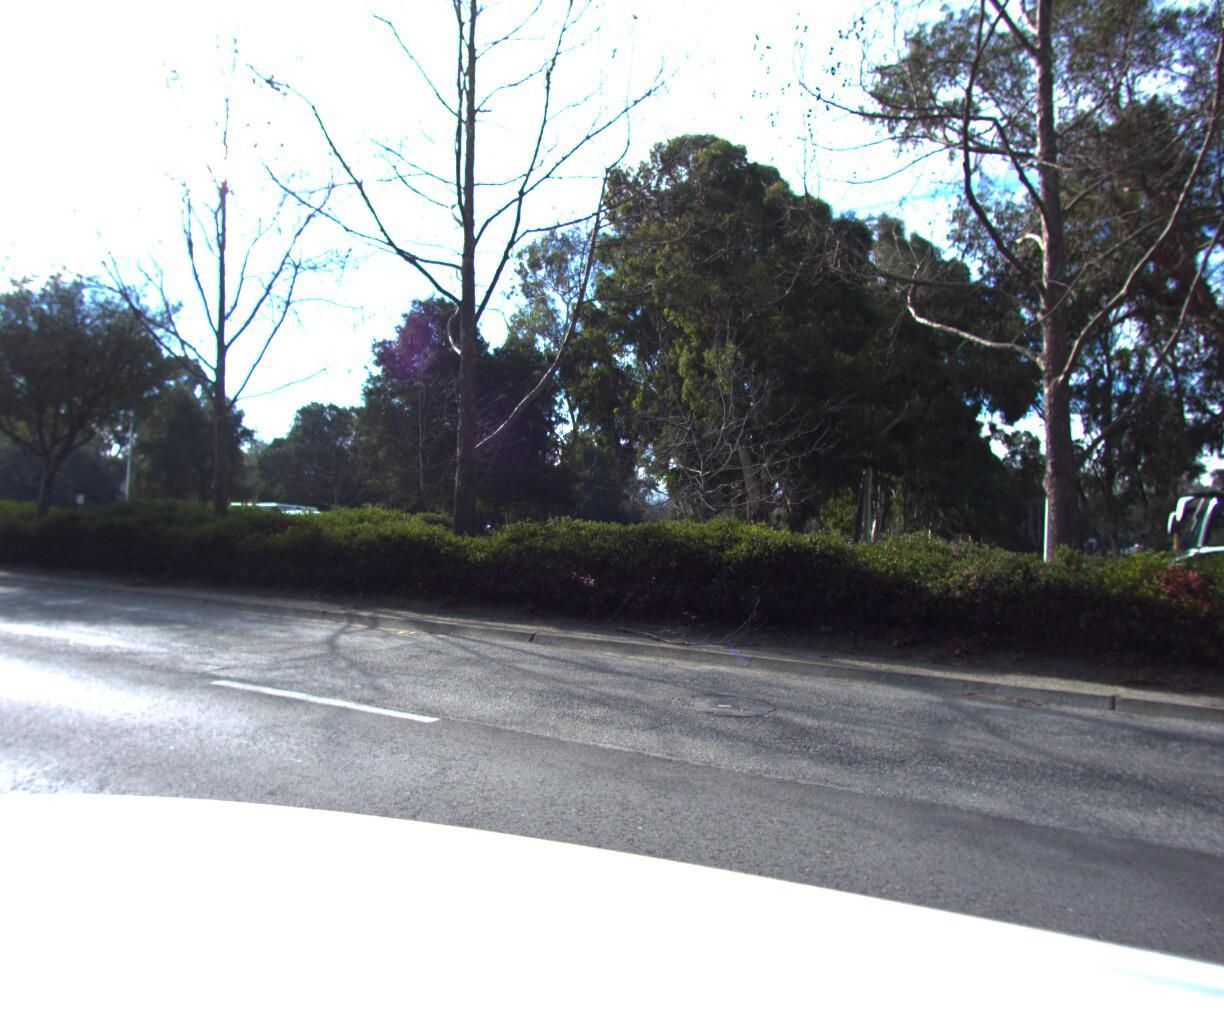bus: (1223, 465, 1224, 658)
car: (1118, 538, 1224, 661)
other_vehicle: (189, 495, 323, 549)
